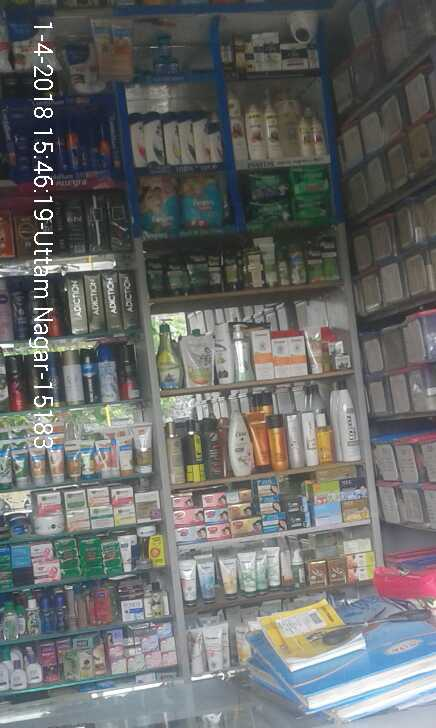vicks: (152, 28, 181, 76)
